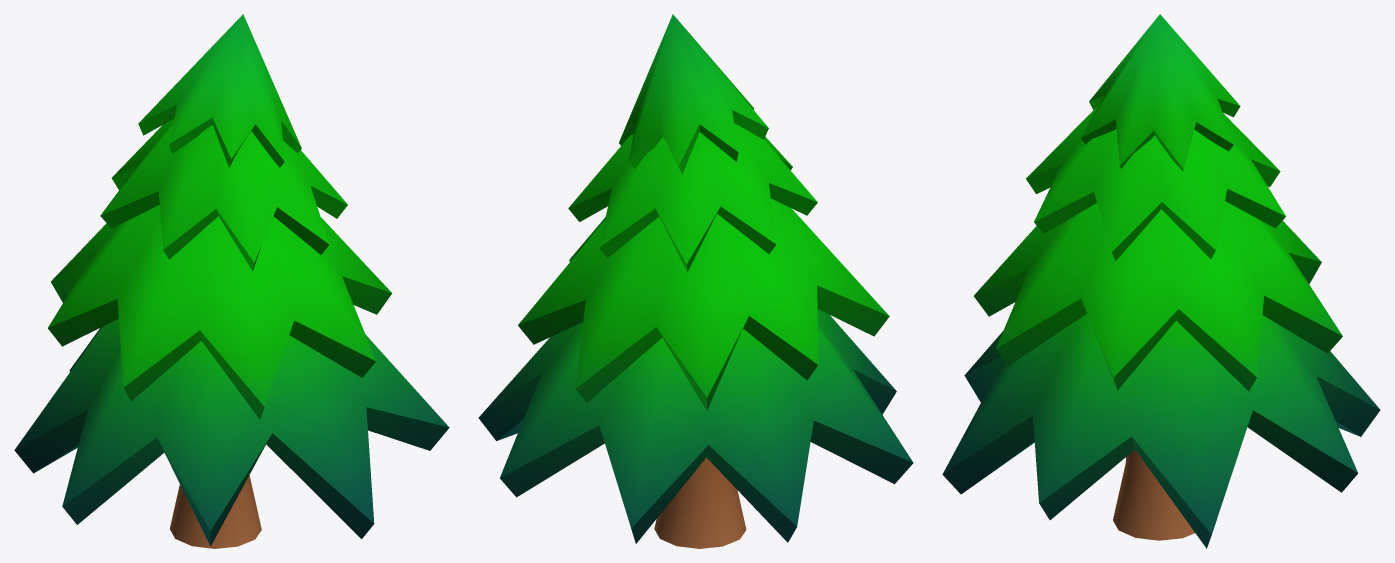
The model's file is Tree_03.2.fbx.
The picture shows the model from 3 angles, left to right: view 1: azimuth 30°, elevation 25°; view 2: azimuth 150°, elevation 25°; view 3: azimuth 270°, elevation 25°; orthographic projection. The views are drawn at different scales.
Visible parts, largest first — view 1: Tree_03.2; view 2: Tree_03.2; view 3: Tree_03.2.
Part boxes in pixels (bbox=[...]): Tree_03.2: bbox=[14, 14, 449, 548]; Tree_03.2: bbox=[478, 14, 913, 548]; Tree_03.2: bbox=[942, 14, 1380, 548].
Size of the model in its own units: 175 by 224 by 171.
